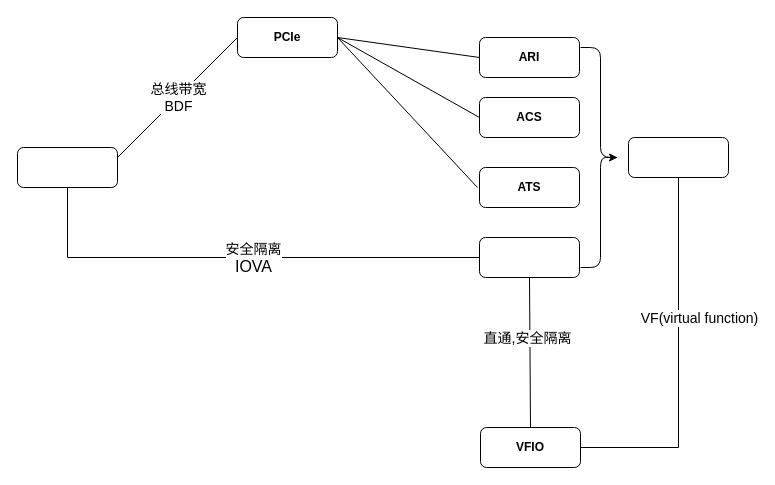
The diagram is 775 pixels wide and 485 high, and some of its shapes have lost their labels. Each missing label, with the centre of its shape:
DMA: the point at 67,167
IOMMU VT-d: the point at 529,257
SR-IOV: the point at 678,157
